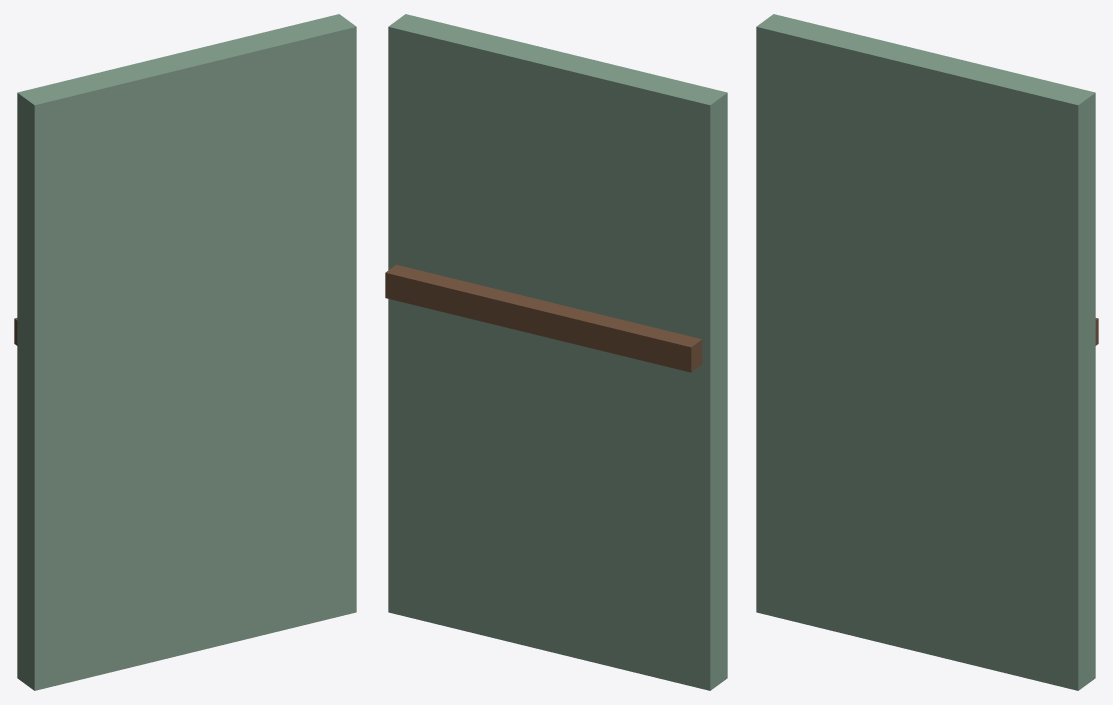
File: rear_connection_cap.glb
The picture shows the model from 3 angles, left to right: view 1: azimuth 30°, elevation 25°; view 2: azimuth 150°, elevation 25°; view 3: azimuth 330°, elevation 25°; orthographic projection.
Parts seen in each view (by area): view 1: Removable_Rear_Cap-col; view 2: Removable_Rear_Cap-col, Cap_Crossbar; view 3: Removable_Rear_Cap-col.
Part boxes in pixels (<box>): Removable_Rear_Cap-col: <box>17,14,356,690</box>; Removable_Rear_Cap-col: <box>388,14,727,690</box>; Cap_Crossbar: <box>385,264,702,372</box>; Removable_Rear_Cap-col: <box>756,14,1095,690</box>.
Size of the model in its own units: 1.6 by 2.78 by 0.245.
